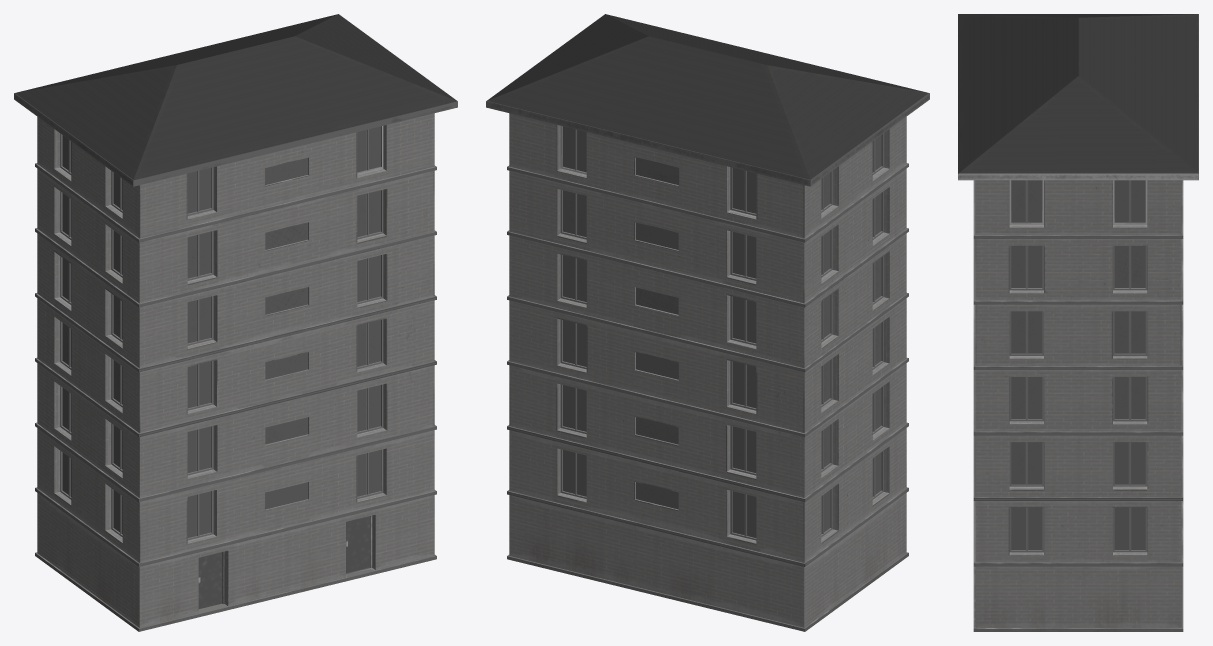
File: Building_1.glb
The picture shows the model from 3 angles, left to right: view 1: azimuth 30°, elevation 25°; view 2: azimuth 150°, elevation 25°; view 3: azimuth 270°, elevation 25°; orthographic projection.
Visible parts, largest first — view 1: building_4; view 2: building_4; view 3: building_4.
Part boxes in pixels (left/top/right/bottom): building_4: left=14, top=14, right=457, bottom=631; building_4: left=486, top=14, right=929, bottom=631; building_4: left=958, top=14, right=1198, bottom=631.
Bounding box in the file's own units: 11 × 16.41 × 7.
Materials: 1 (1 with a texture image).
